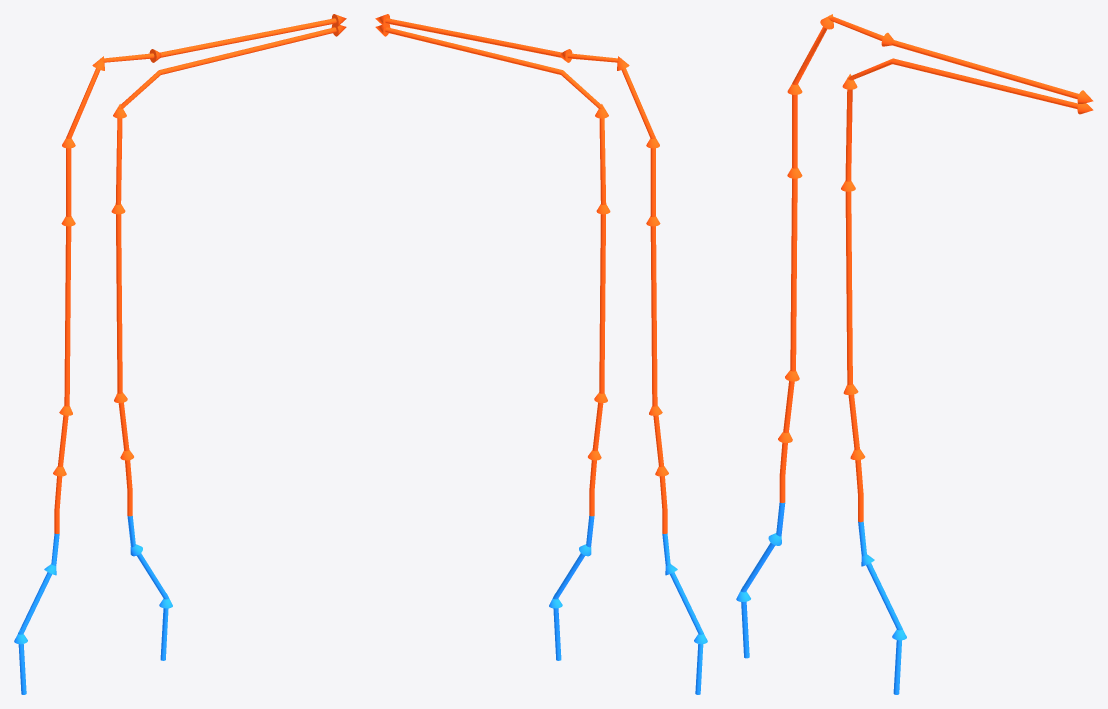
The model's file is axial_flow_pump_flow.glb.
3 views of the same model, side by side, from view 1: azimuth 30°, elevation 25°; view 2: azimuth 150°, elevation 25°; view 3: azimuth 330°, elevation 25° (orthographic). The views are drawn at different scales.
Parts seen in each view (by area): view 1: flow_discharge2, flow_discharge, flow_suction-1, flow_suction1; view 2: flow_discharge2, flow_discharge, flow_suction-1, flow_suction1; view 3: flow_discharge2, flow_discharge, flow_suction1, flow_suction-1.
Boxes of the visible parts, bbox=[...] form: flow_discharge2: bbox=[53, 14, 346, 533]; flow_discharge: bbox=[111, 24, 346, 516]; flow_suction-1: bbox=[14, 533, 59, 694]; flow_suction1: bbox=[127, 516, 172, 660]; flow_discharge2: bbox=[375, 14, 668, 533]; flow_discharge: bbox=[375, 24, 610, 516]; flow_suction-1: bbox=[662, 533, 707, 694]; flow_suction1: bbox=[549, 516, 594, 660]; flow_discharge2: bbox=[778, 14, 1093, 502]; flow_discharge: bbox=[841, 58, 1093, 522]; flow_suction1: bbox=[858, 521, 906, 694]; flow_suction-1: bbox=[736, 502, 785, 658].
Bounding box in the file's own units: 2 × 3.57 × 0.0728.
